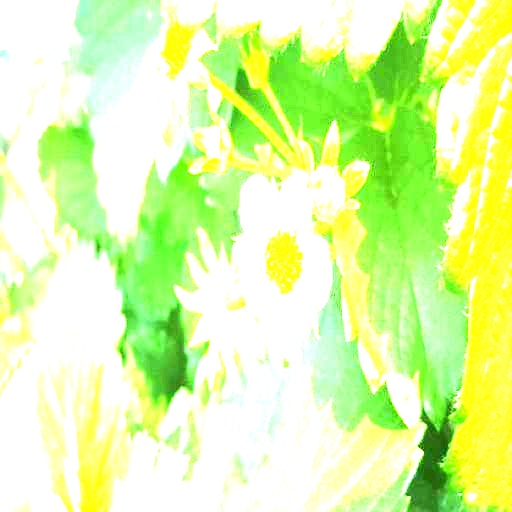Blossom Blight: (259, 220, 308, 293)
